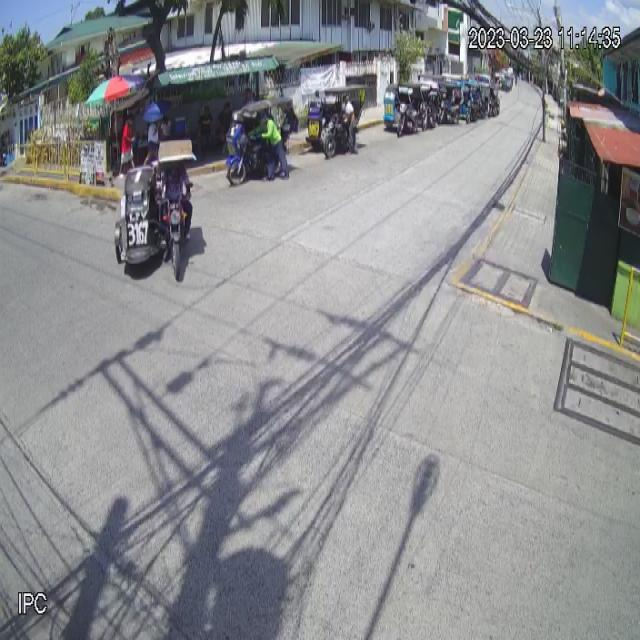Tricycle: (114, 138, 197, 280)
